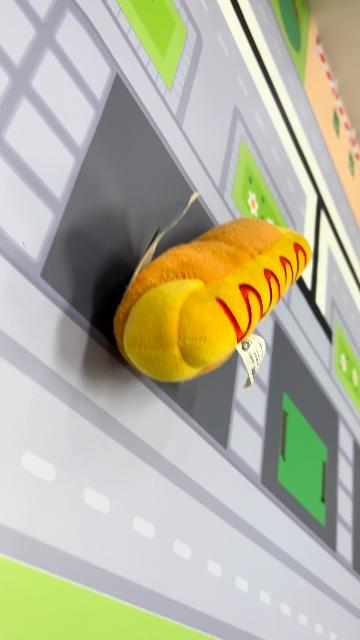hotdog: (112, 216, 314, 386)
